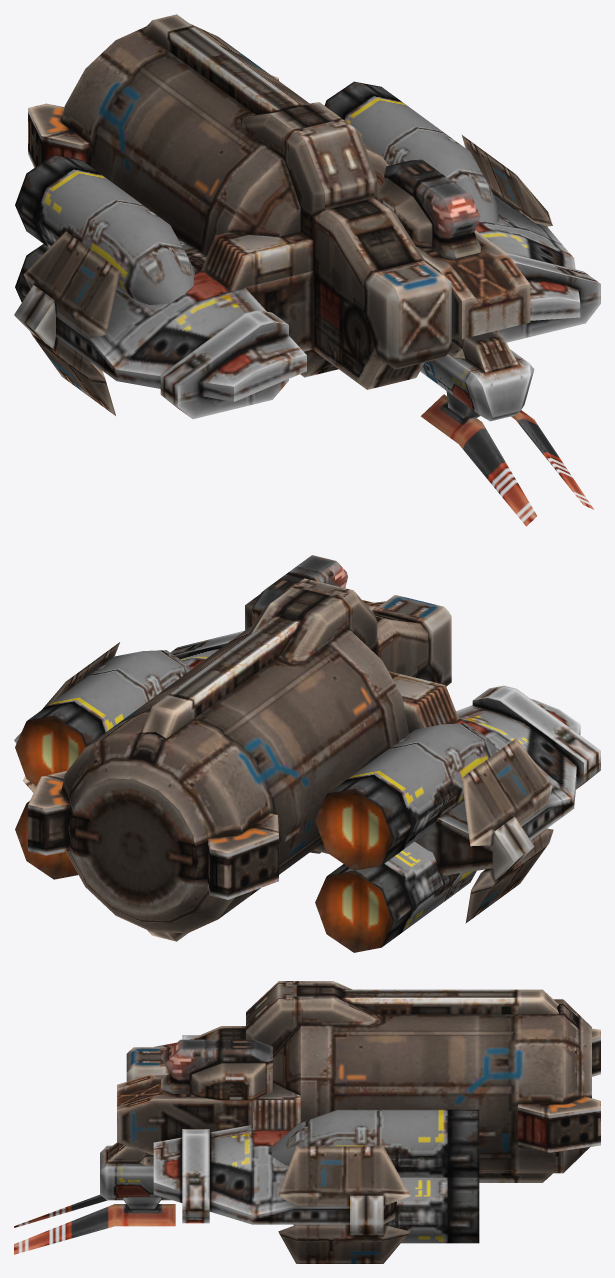
The model's file is ama_assault_corvette_01.glb.
3 views of the same model, one above another, from view 1: azimuth 30°, elevation 25°; view 2: azimuth 150°, elevation 25°; view 3: azimuth 270°, elevation 25° (orthographic). The views are drawn at different scales.
Parts seen in each view (by area): view 1: ama_assault_corvette_01_LOD0; view 2: ama_assault_corvette_01_LOD0; view 3: ama_assault_corvette_01_LOD0.
Part boxes in pixels (x1,y1,x2,y2): ama_assault_corvette_01_LOD0: (14, 14, 600, 526); ama_assault_corvette_01_LOD0: (14, 555, 600, 952); ama_assault_corvette_01_LOD0: (14, 981, 600, 1263).
Size of what is drawn, in the model's own units: 0.7131 by 0.3827 by 0.9052.
1 material, 1 textured.
